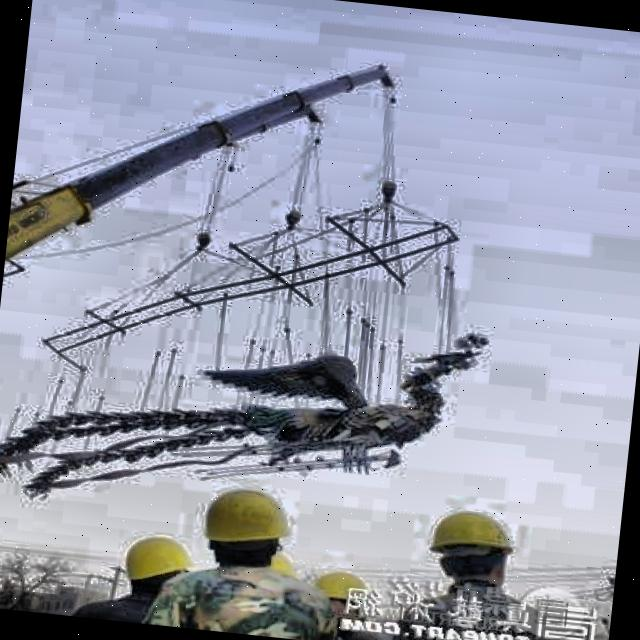helmet: (188, 472, 306, 582), (418, 495, 530, 597), (112, 520, 215, 610), (306, 560, 375, 621)
